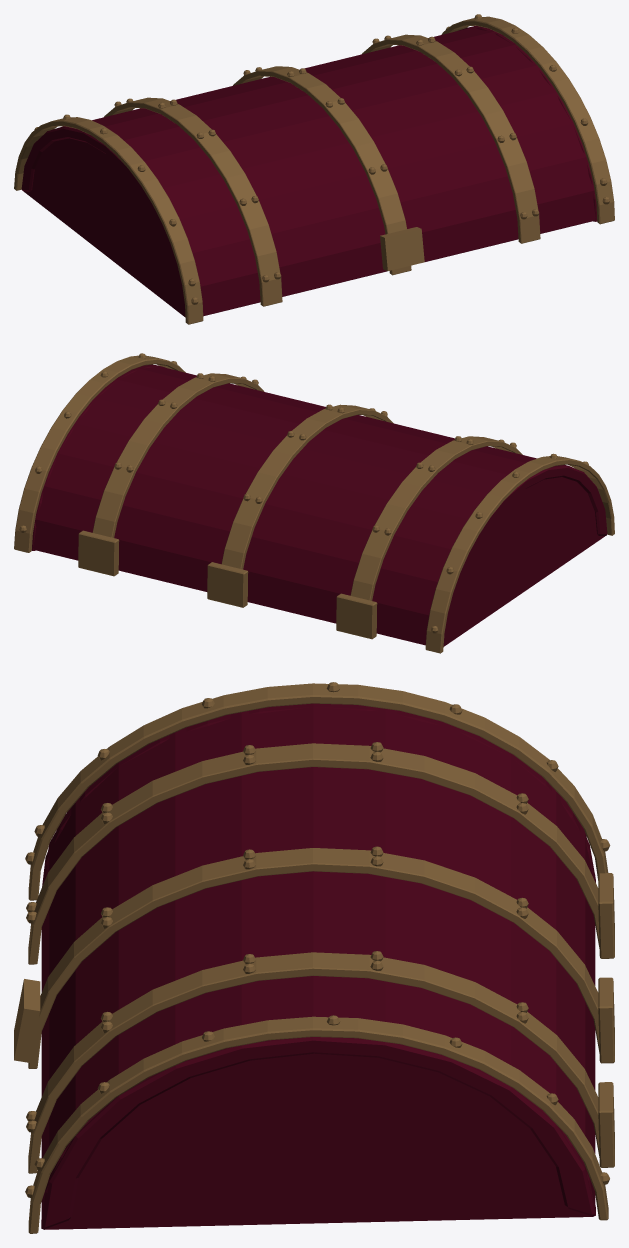
The model's file is Chest_Top.fbx.
3 views of the same model, one above another, from view 1: azimuth 30°, elevation 25°; view 2: azimuth 150°, elevation 25°; view 3: azimuth 270°, elevation 25° (orthographic). The views are drawn at different scales.
Parts seen in each view (by area): view 1: Cofre_Tapa; view 2: Cofre_Tapa; view 3: Cofre_Tapa.
Part boxes in pixels (x1,y1,x2,y2): Cofre_Tapa: (14,14,614,324); Cofre_Tapa: (14,353,614,653); Cofre_Tapa: (14,682,614,1233).
Bounding box in the file's own units: 325 × 92.84 × 238.
